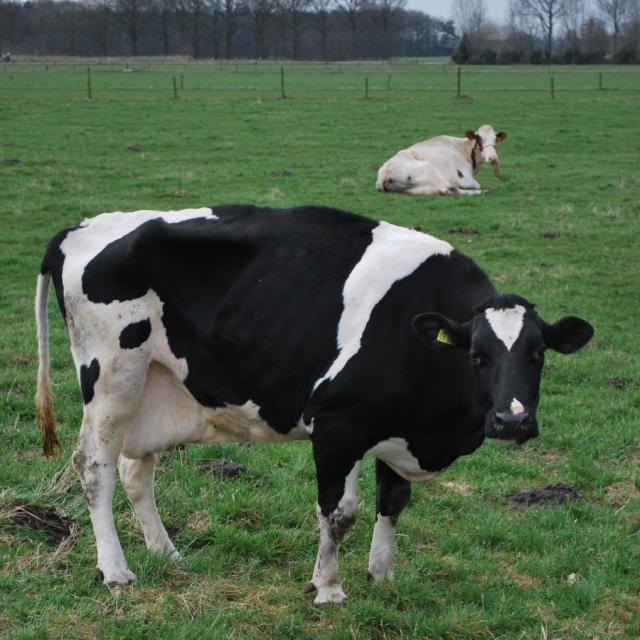Cattle: (33, 204, 595, 611), (376, 125, 508, 194)
